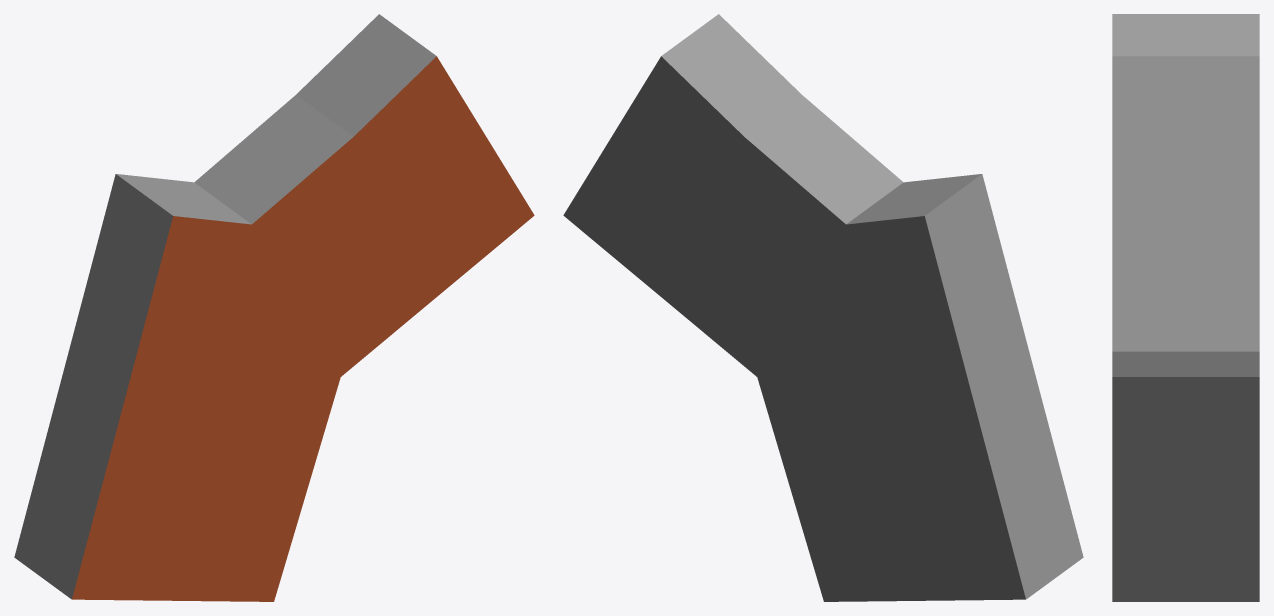
File: construction_4758_assumed_A_Casa_h6m.obj
3 views of the same model, side by side, from view 1: azimuth 30°, elevation 25°; view 2: azimuth 150°, elevation 25°; view 3: azimuth 270°, elevation 25° (orthographic). The views are drawn at different scales.
Parts seen in each view (by area): view 1: construction_4758_assumed_A_Casa; view 2: construction_4758_assumed_A_Casa; view 3: construction_4758_assumed_A_Casa.
Boxes of the visible parts, x1,y1,x2,y2 form: construction_4758_assumed_A_Casa: (14, 14, 534, 601); construction_4758_assumed_A_Casa: (563, 14, 1083, 601); construction_4758_assumed_A_Casa: (1112, 14, 1259, 601).
Bounding box in the file's own units: 27.84 × 29.09 × 6.
